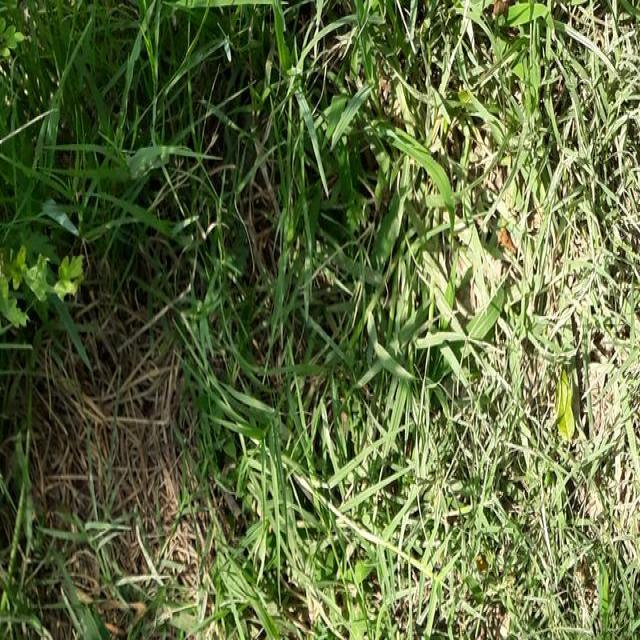weed: (3, 9, 474, 303), (179, 311, 545, 640)
